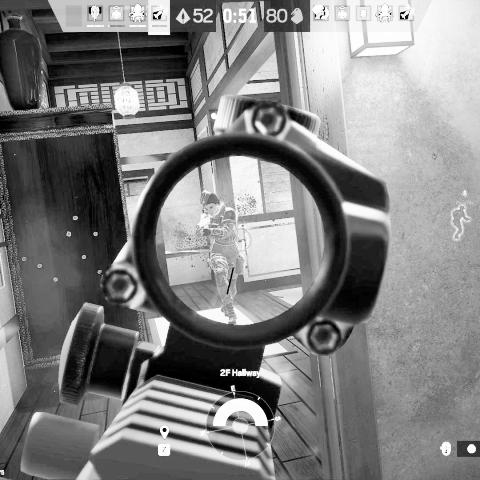Character: (194, 190, 252, 324)
Friend_label: (229, 210, 254, 225), (456, 190, 475, 206)
Head: (199, 191, 221, 217)
